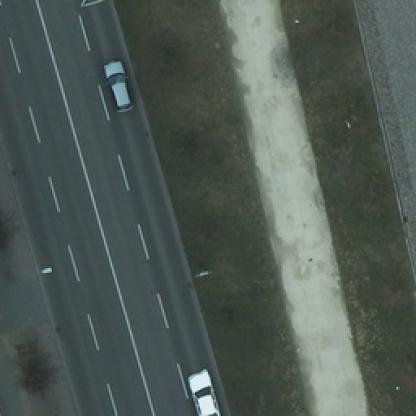car: (100, 57, 132, 109)
